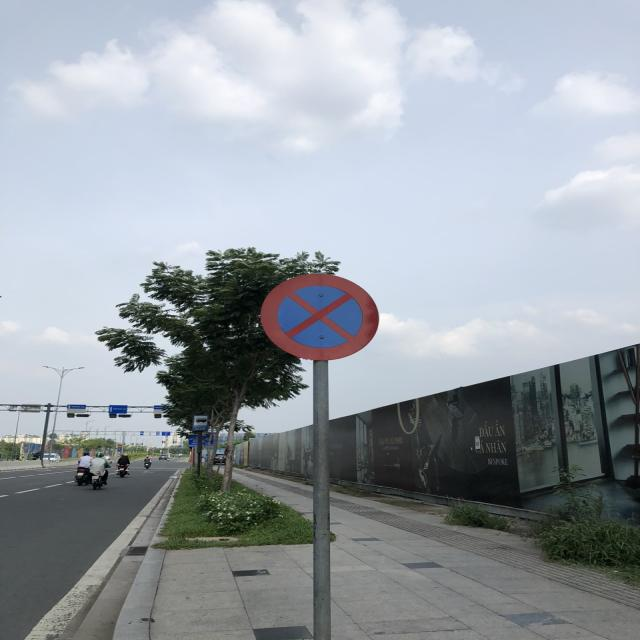Bien bao cam dung xe va do xe: (252, 269, 398, 368)
